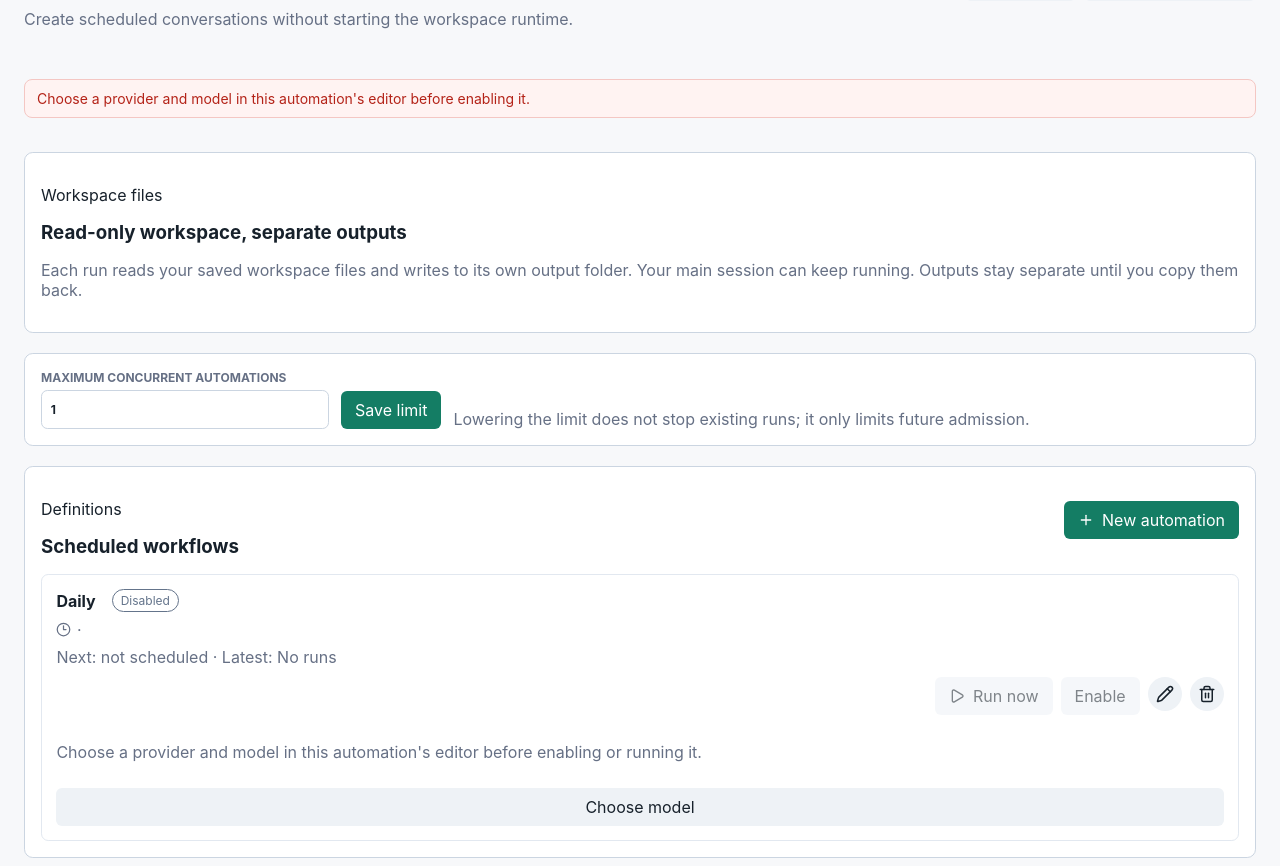
Scenario: AutomationsPanel › opens the model picker from missing-model guidance without starting the workspace
(page scrolled)
Click the button "Choose model" at (640, 807), box [56, 788, 1224, 826]
(page scrolled)
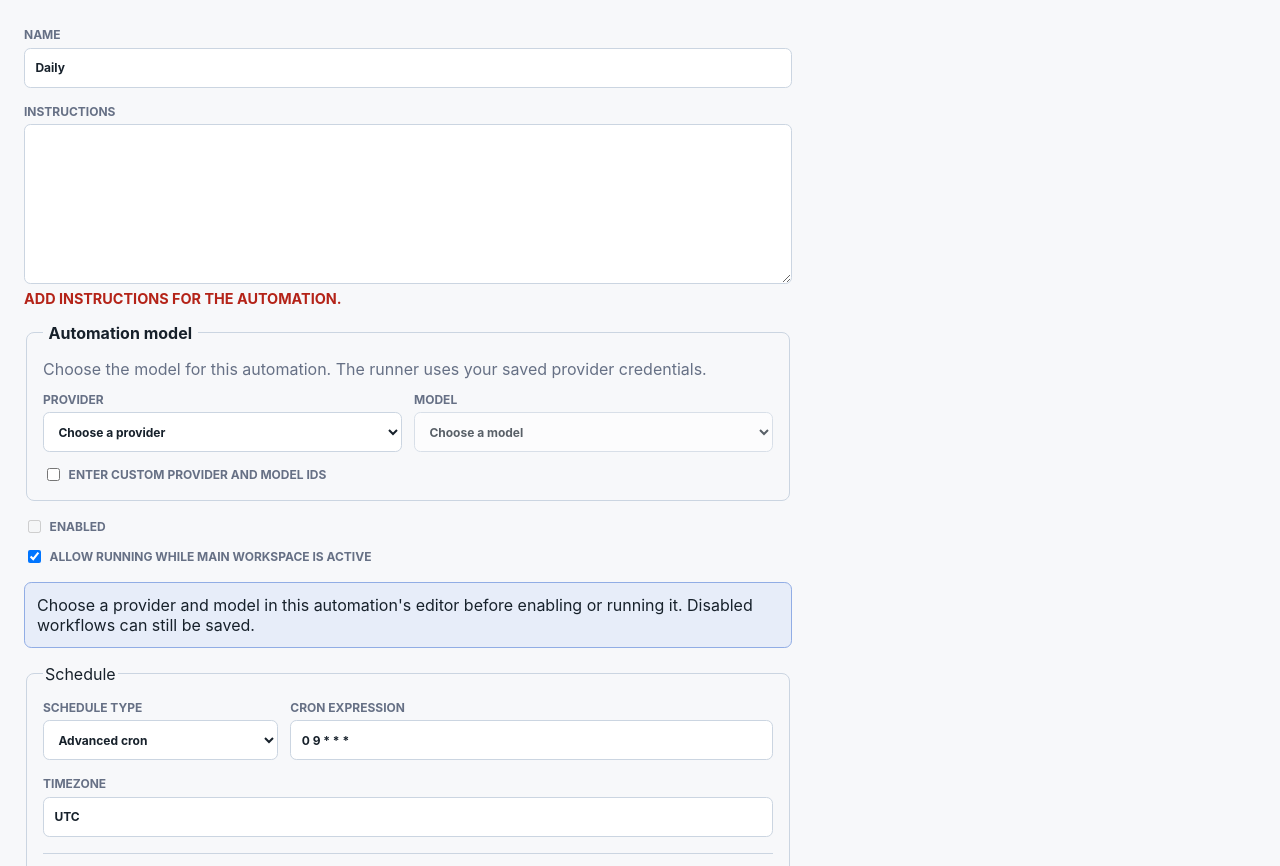
Check: the dropdown labelled "Provider" is shown, box [43, 412, 402, 452]
